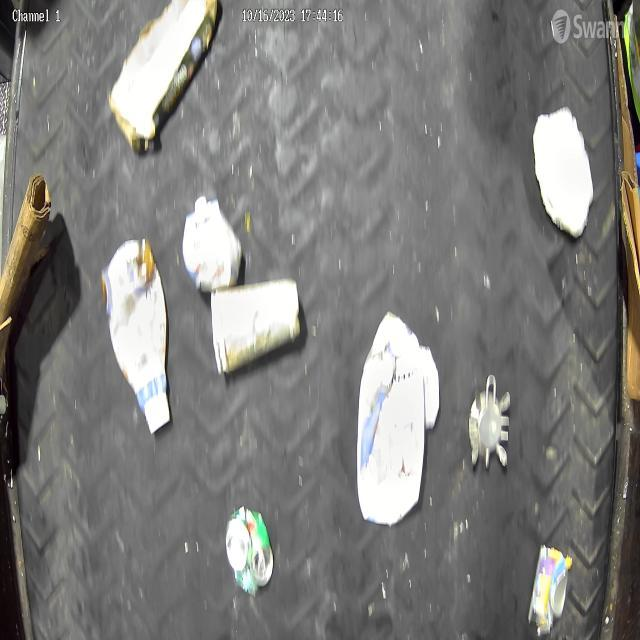can: (220, 504, 275, 601)
milk_jug: (358, 310, 439, 528), (534, 107, 596, 243)
